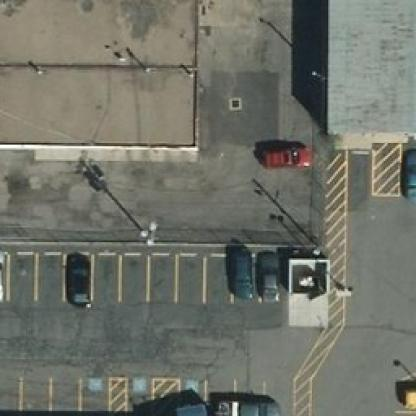car: (256, 140, 314, 170), (64, 255, 92, 307), (255, 250, 280, 302), (229, 245, 250, 300)
